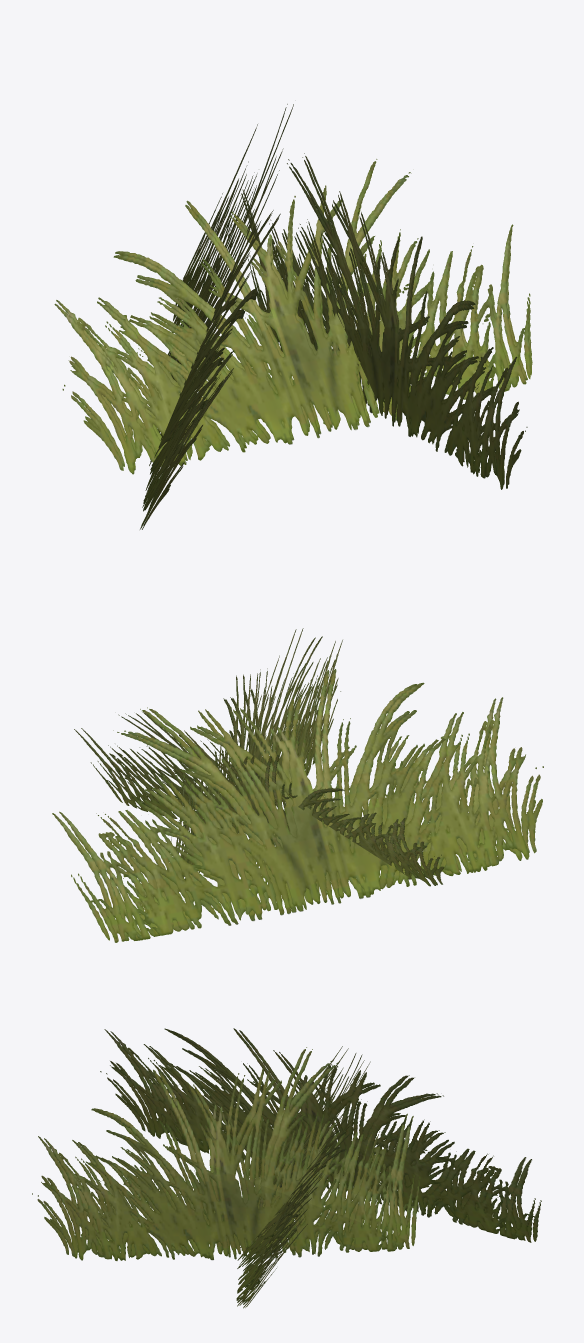
File: grass_02.fbx
3 views of the same model, one above another, from view 1: azimuth 30°, elevation 25°; view 2: azimuth 150°, elevation 25°; view 3: azimuth 270°, elevation 25° (orthographic). The views are drawn at different scales.
Visible parts, largest first — view 1: Grass_02; view 2: Grass_02; view 3: Grass_02.
Part boxes in pixels (box(x1,y1,x2,y2)): Grass_02: box(54, 104, 532, 529); Grass_02: box(52, 628, 543, 942); Grass_02: box(32, 1028, 541, 1308).
Bounding box in the file's own units: 1.75 × 0.8796 × 2.07.
